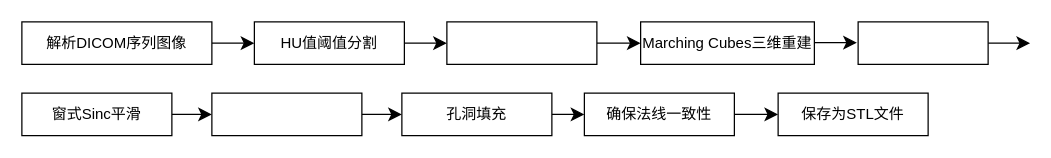
Some shapes in this 1051 by 158 pixel diagram are drawn without their labels. The box of each missing label's shape, as (x1, y1, x2, y2) in pixels:
各向同性网格重建: (211, 92, 362, 136)
提取感兴趣区域: (857, 21, 988, 64)
高斯滤波: (446, 21, 597, 64)
